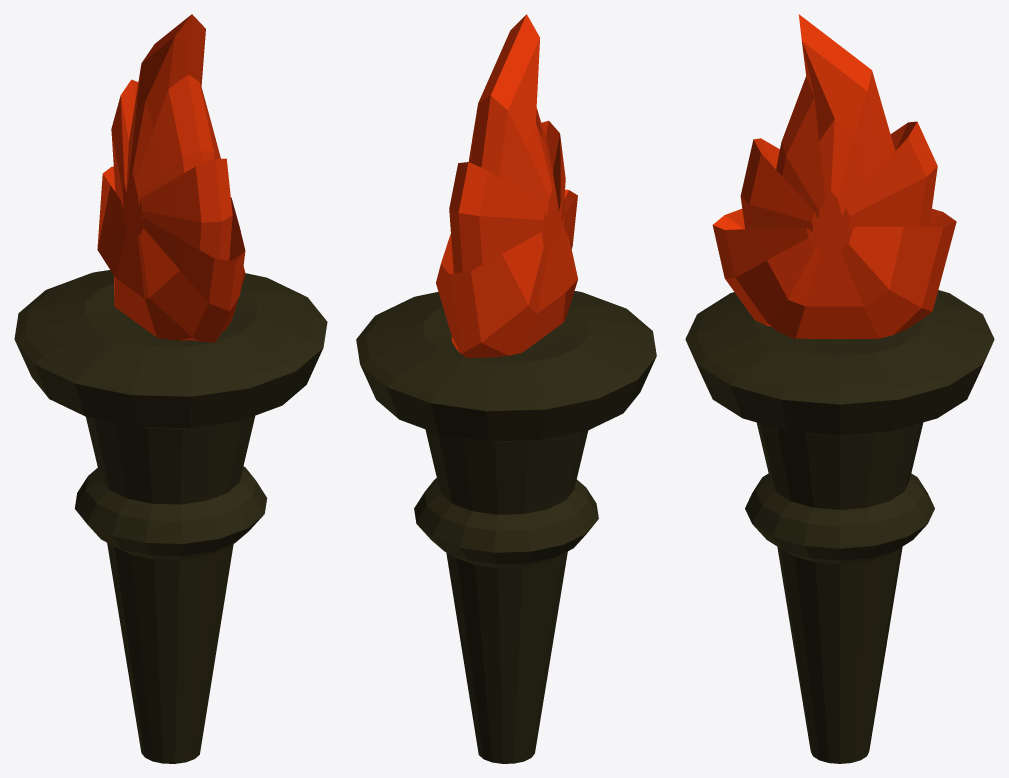
The model's file is torch.fbx.
3 views of the same model, side by side, from view 1: azimuth 30°, elevation 25°; view 2: azimuth 150°, elevation 25°; view 3: azimuth 270°, elevation 25° (orthographic). The views are drawn at different scales.
Parts seen in each view (by area): view 1: Plane, Plane.001; view 2: Plane, Plane.001; view 3: Plane, Plane.001.
Boxes of the visible parts, box(x1,y1,x2,y2) form: Plane: box(14, 270, 327, 763); Plane.001: box(97, 14, 245, 342); Plane: box(356, 291, 656, 763); Plane.001: box(436, 14, 577, 357); Plane: box(685, 290, 994, 763); Plane.001: box(712, 14, 956, 338).
Size of the model in its own units: 30.95 by 81.42 by 30.95.
